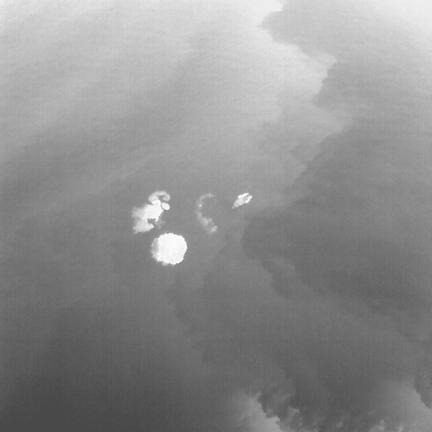flukeprints: (152, 233, 186, 265), (148, 202, 163, 224), (232, 192, 252, 208)
